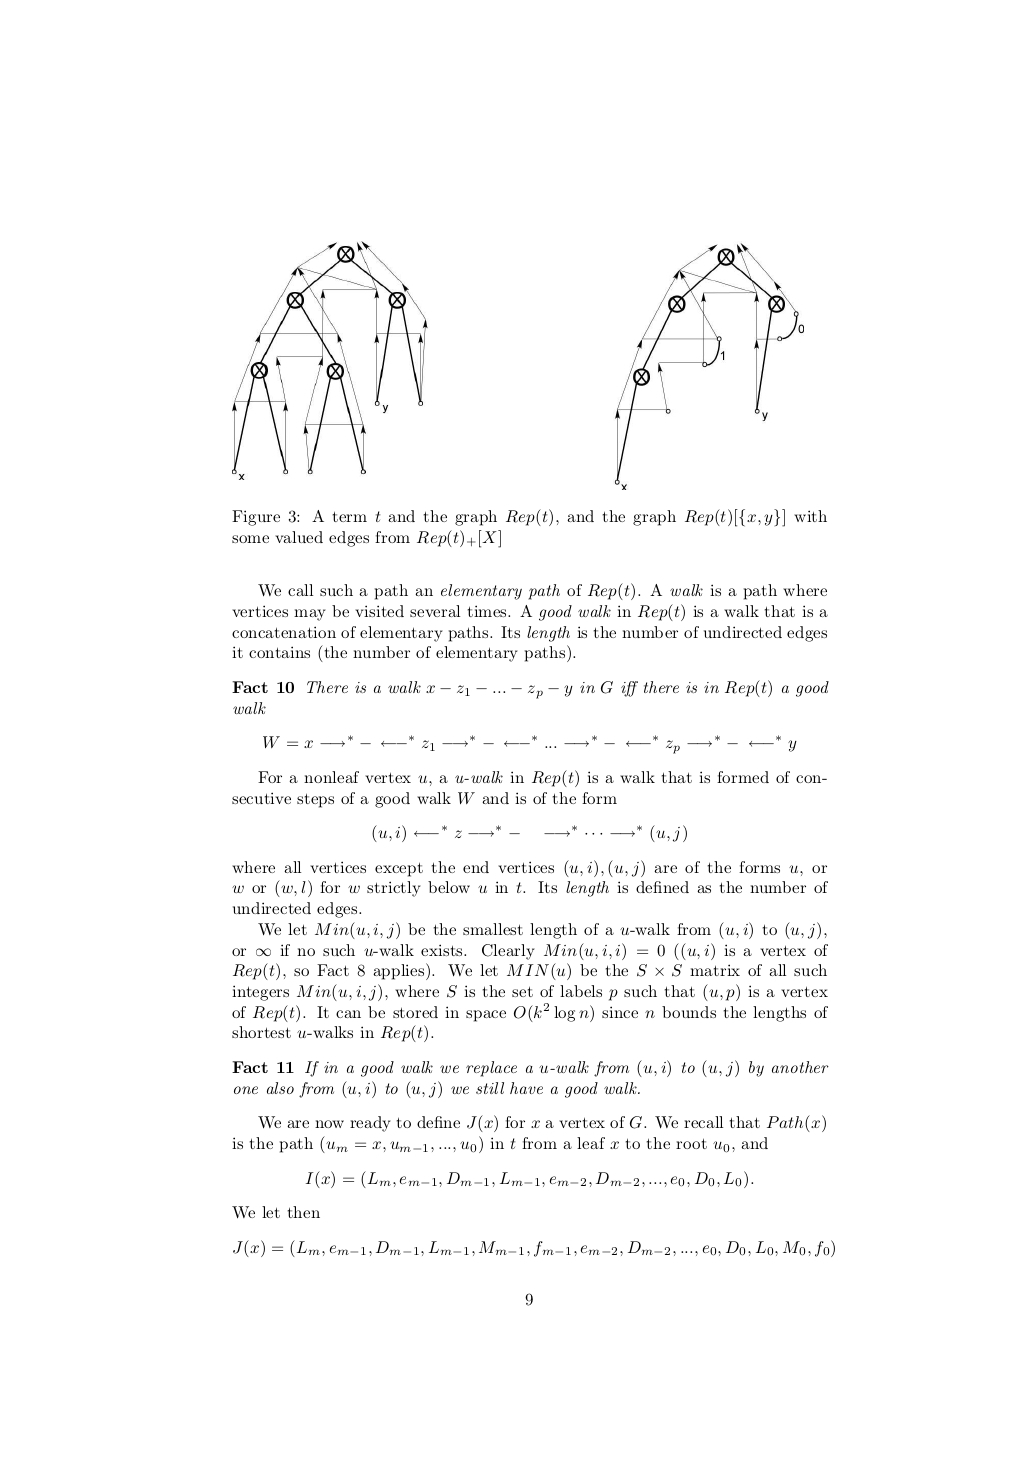figure: (614, 242, 803, 490), (232, 240, 427, 480)
formula: (233, 1239, 834, 1258), (263, 734, 796, 754), (305, 1170, 753, 1189), (372, 824, 686, 843)
